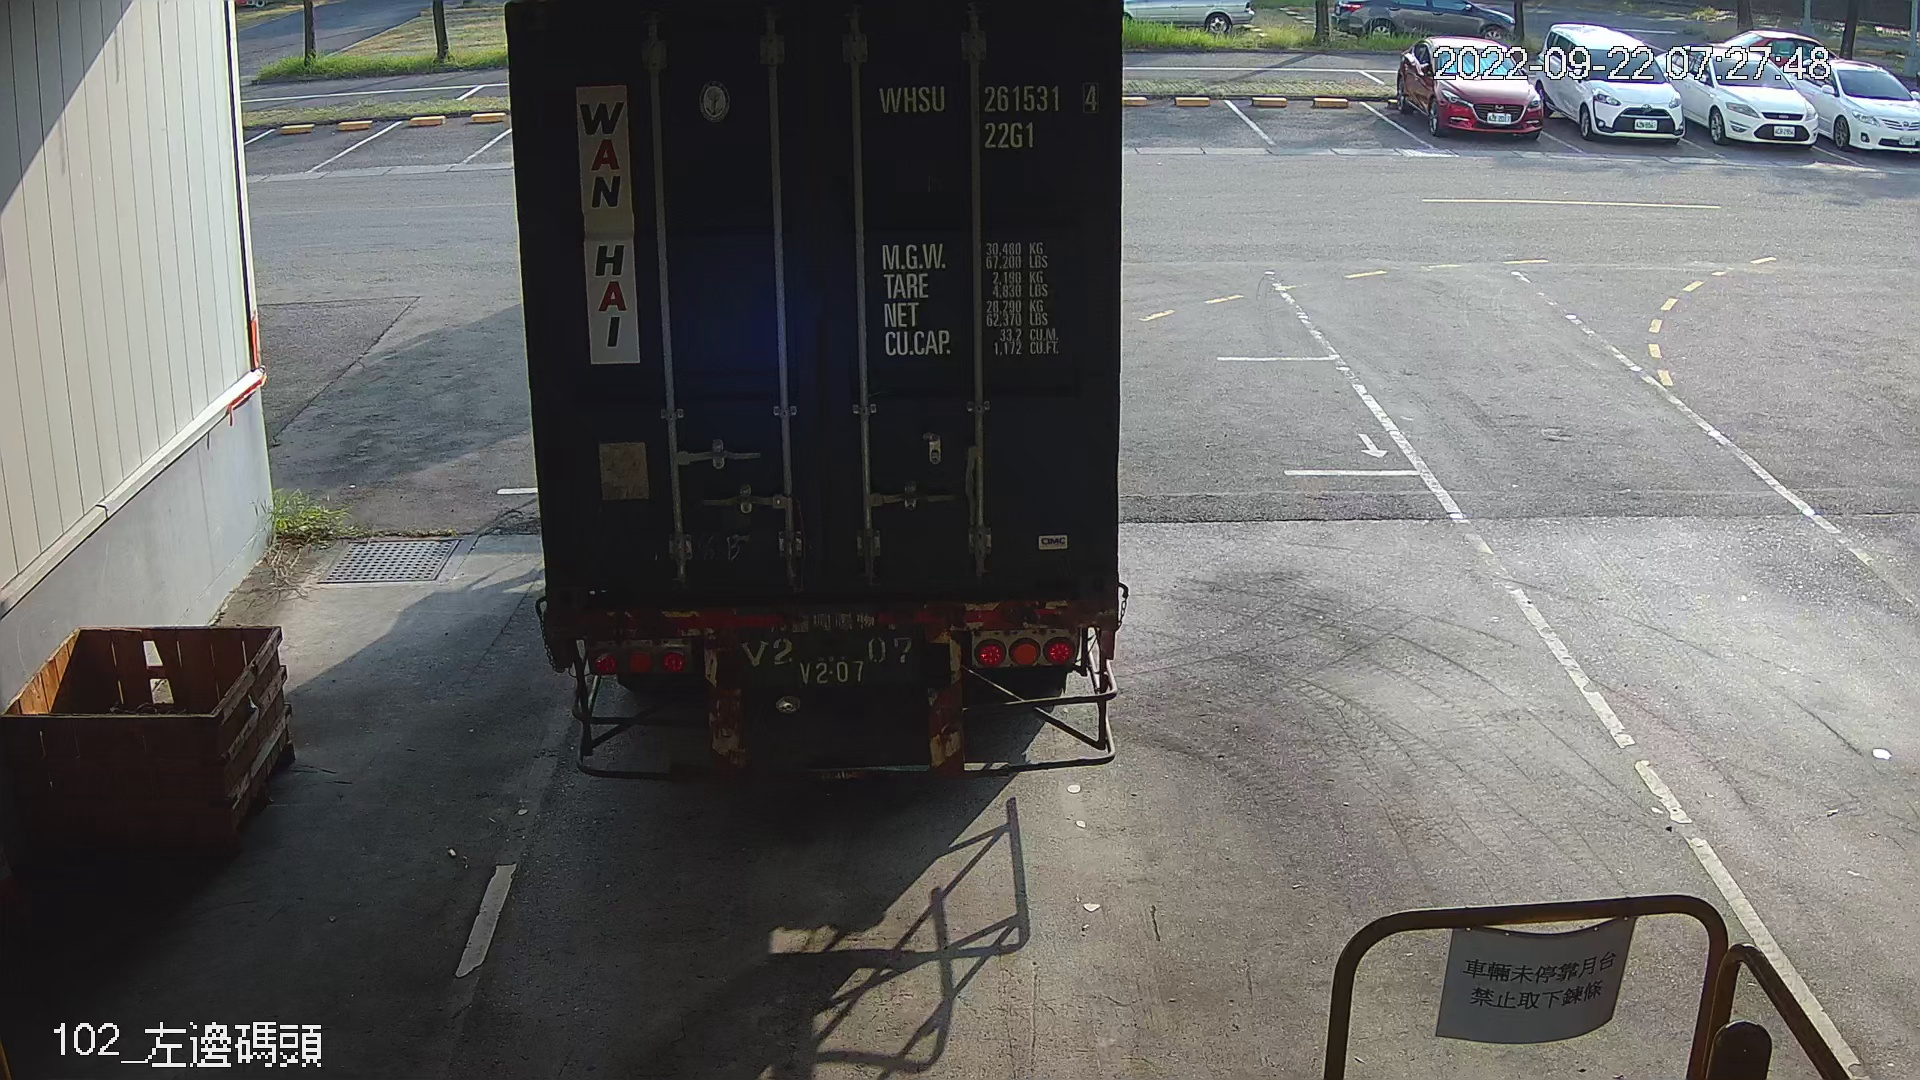container: (870, 76, 1116, 160)
